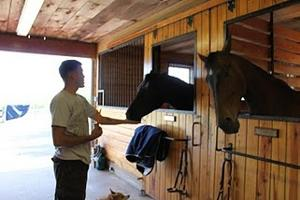person: (50, 61, 143, 199)
